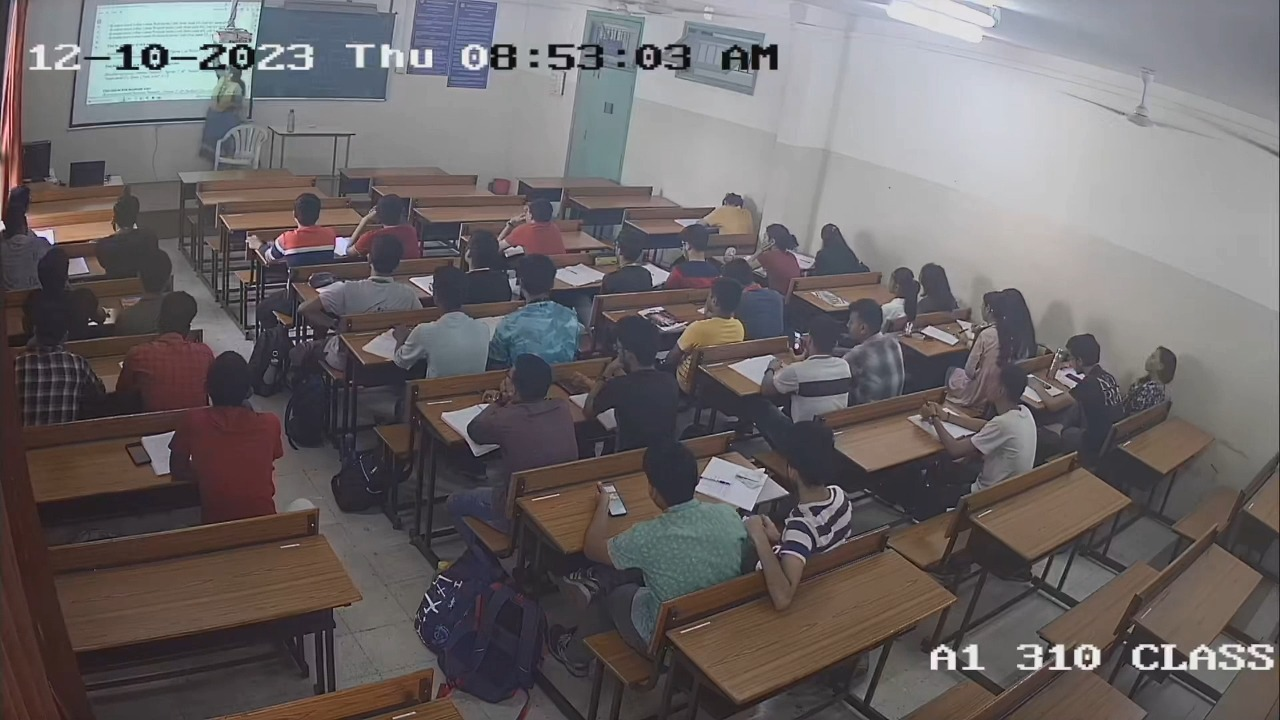cell-phones: (595, 480, 632, 524), (125, 439, 154, 468), (787, 328, 806, 355), (1031, 374, 1050, 392), (593, 254, 618, 267)
person: (581, 441, 746, 619), (177, 349, 284, 522), (764, 320, 850, 415), (1041, 334, 1124, 430), (601, 230, 654, 291)
